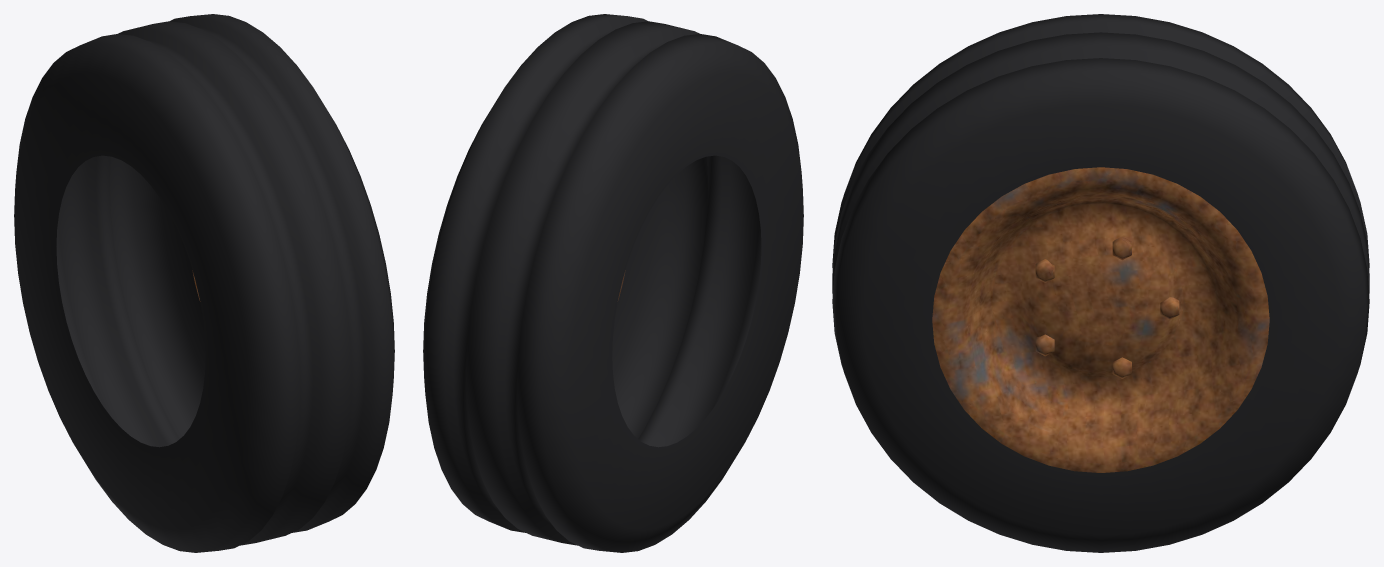
Rendered from truck_wheel.glb.
3 views of the same model, side by side, from view 1: azimuth 30°, elevation 25°; view 2: azimuth 150°, elevation 25°; view 3: azimuth 270°, elevation 25° (orthographic).
Parts seen in each view (by area): view 1: Tyre; view 2: Tyre; view 3: Tyre, Rim.
Boxes of the visible parts, x1=… form: Tyre: x1=14, y1=14, x2=394, y2=552; Tyre: x1=423, y1=14, x2=803, y2=552; Tyre: x1=832, y1=14, x2=1369, y2=552; Rim: x1=932, y1=167, x2=1269, y2=472.
Bounding box in the file's own units: 0.255 × 0.78 × 0.78.
2 materials, 1 textured.
